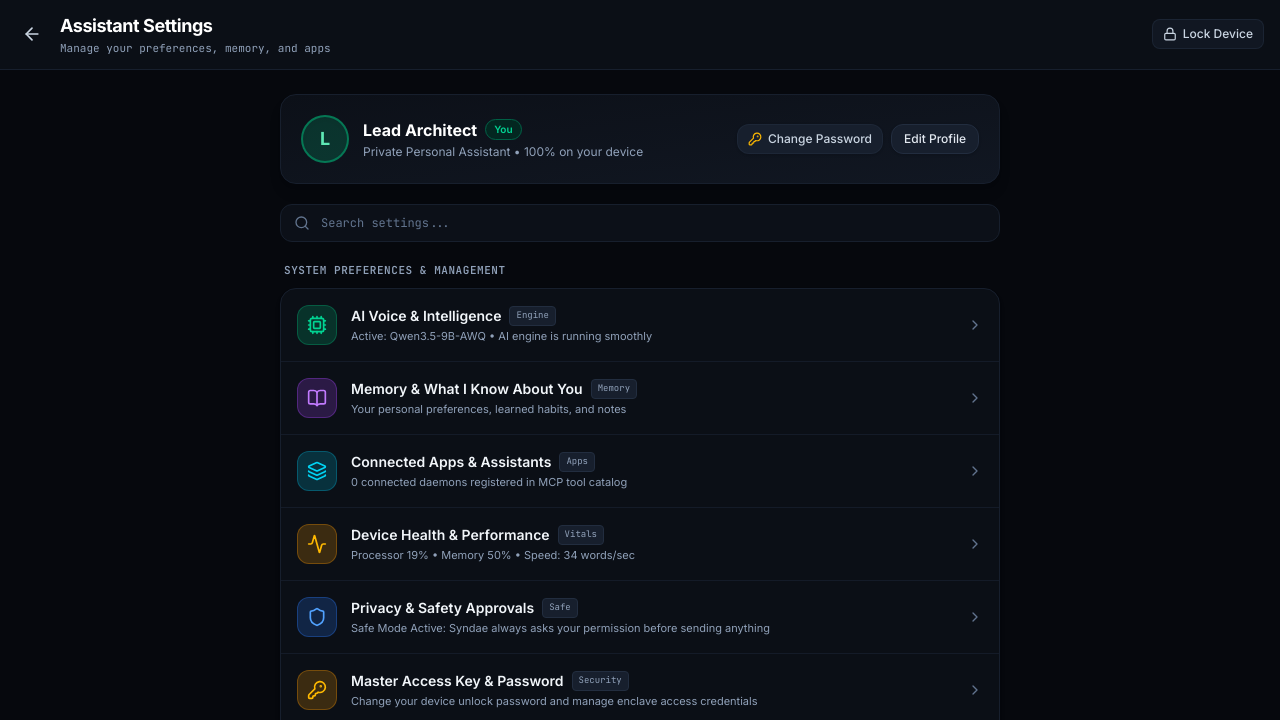
Test case: SettingsHub Android-style System Menu Tests › clicking System Diagnostics opens hardware vitals sub-view
This screenshot has width=1280, height=720.
Click the text "Device Health & Performance": (640,544) [281,508,999,581]
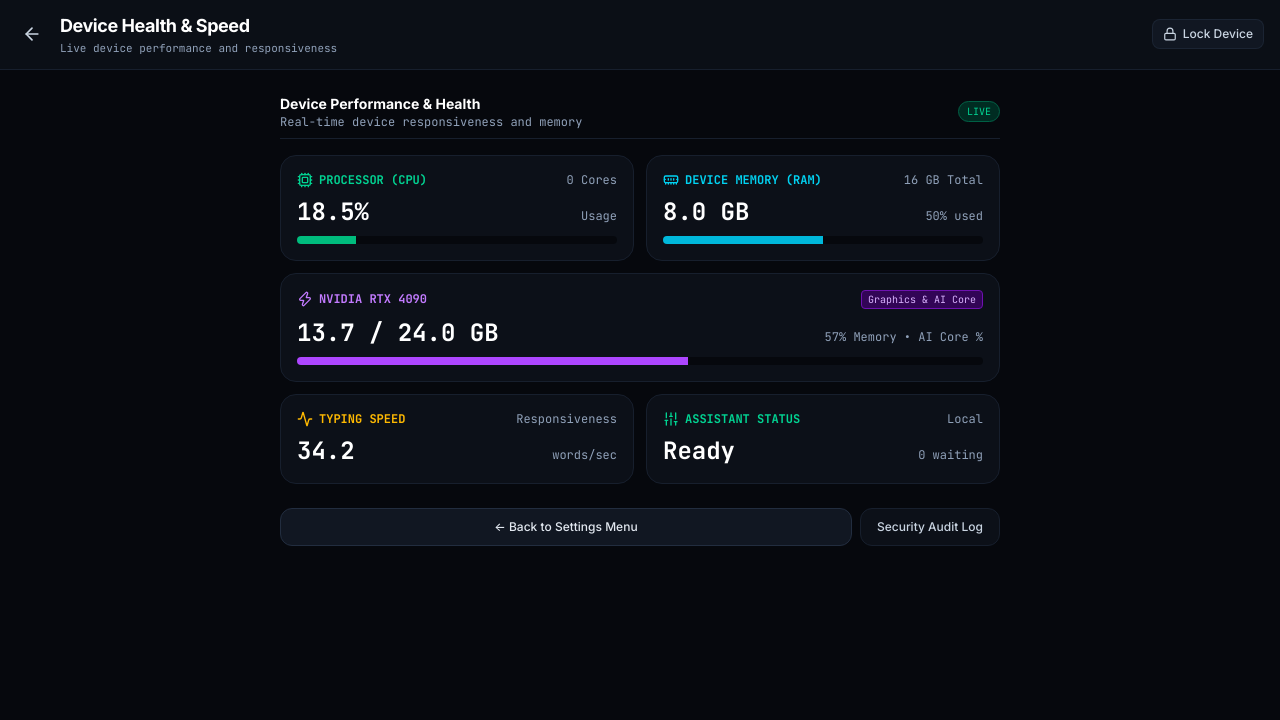
Check: the heading "Device Performance & Health" is shown, box [280,94,480,112]
Check: the text "NVIDIA RTX 4090" is shown, box [319,291,427,307]
Check: the text "TYPING SPEED" is shown, box [319,411,405,427]
Note: Click back to main settings
Click the button titled "Back": (32,34) [16,18,48,50]
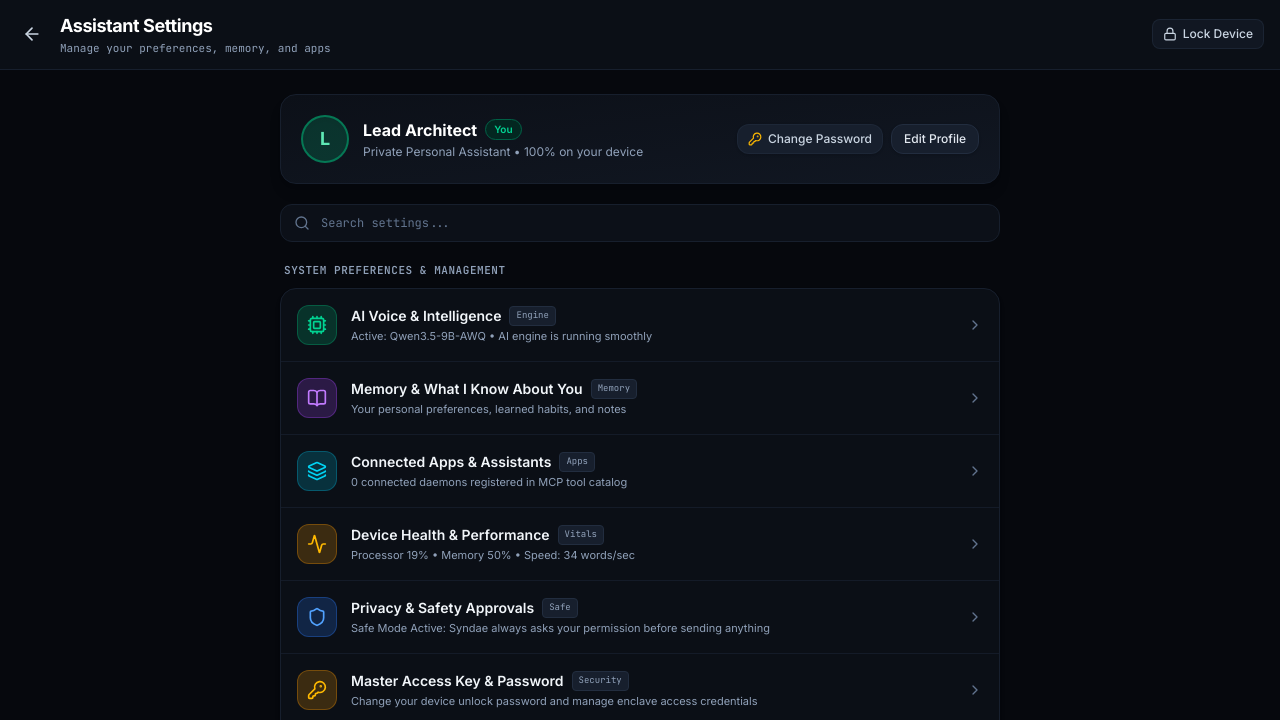
Check: the text "Assistant Settings" is shown, box [60,12,212,40]
